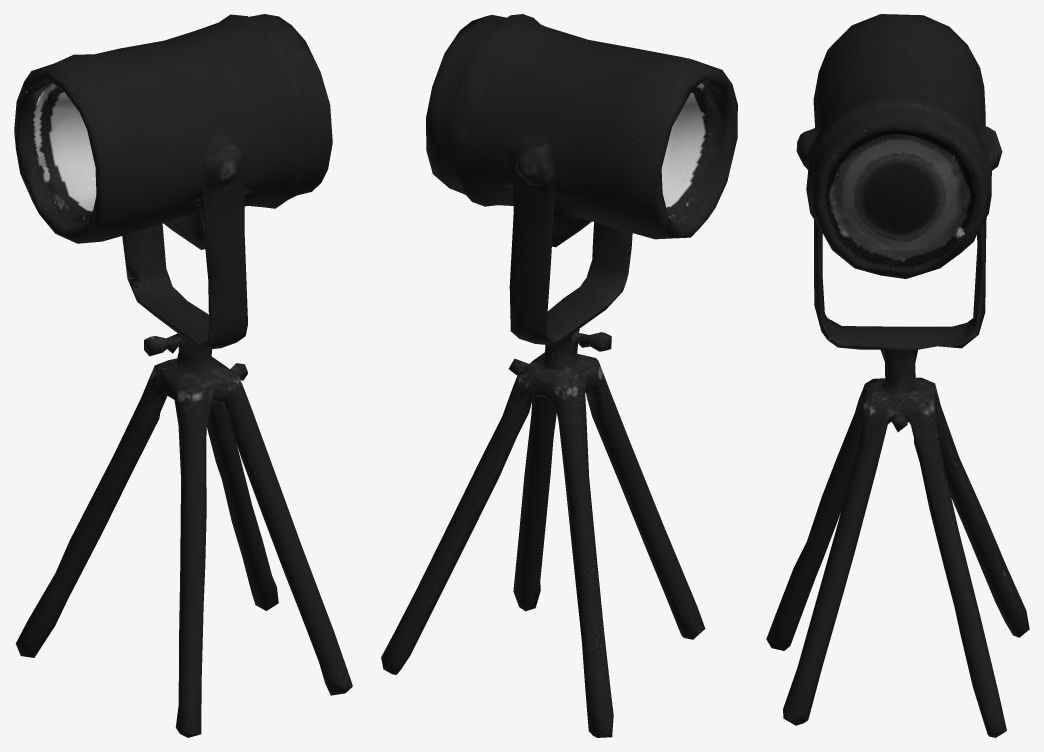
The model's file is follow_spot.glb.
3 views of the same model, side by side, from view 1: azimuth 30°, elevation 25°; view 2: azimuth 150°, elevation 25°; view 3: azimuth 270°, elevation 25° (orthographic). The views are drawn at different scales.
Bounding box in the file's own units: 0.4421 × 1 × 0.3907.
Materials: 1 (1 with a texture image).
